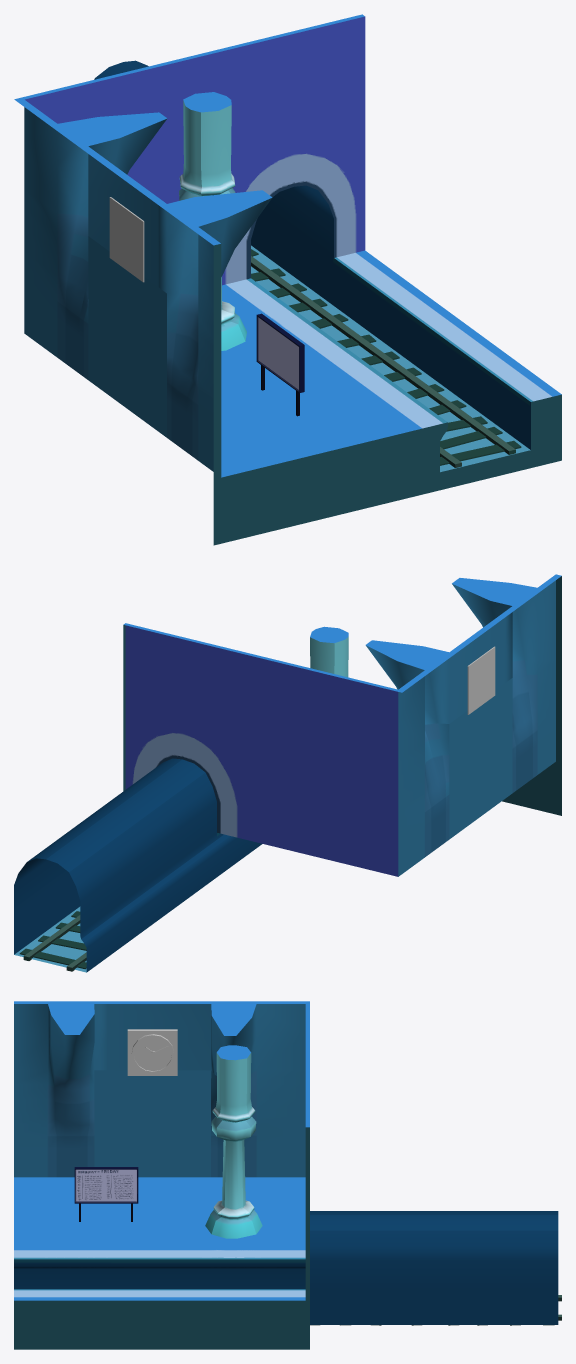
File: station 5.fbx
3 views of the same model, one above another, from view 1: azimuth 30°, elevation 25°; view 2: azimuth 150°, elevation 25°; view 3: azimuth 270°, elevation 25° (orthographic). The views are drawn at different scales.
Visible parts, largest first — view 1: env_5, track_4, pCube79, pCylinder10; view 2: env_5, track_4, pCylinder10; view 3: env_5, pCube79, pCylinder10.
Part boxes in pixels (<box>): env_5: <box>14,14,561,545</box>; track_4: <box>251,249,521,467</box>; pCube79: <box>256,313,304,416</box>; pCylinder10: <box>109,197,144,282</box>; env_5: <box>14,574,561,972</box>; track_4: <box>19,911,86,971</box>; pCylinder10: <box>467,646,495,714</box>; env_5: <box>14,1001,558,1349</box>; pCube79: <box>74,1167,138,1221</box>; pCylinder10: <box>127,1029,177,1075</box>.
Bounding box in the file's own units: 20.22 × 16.64 × 37.16.
